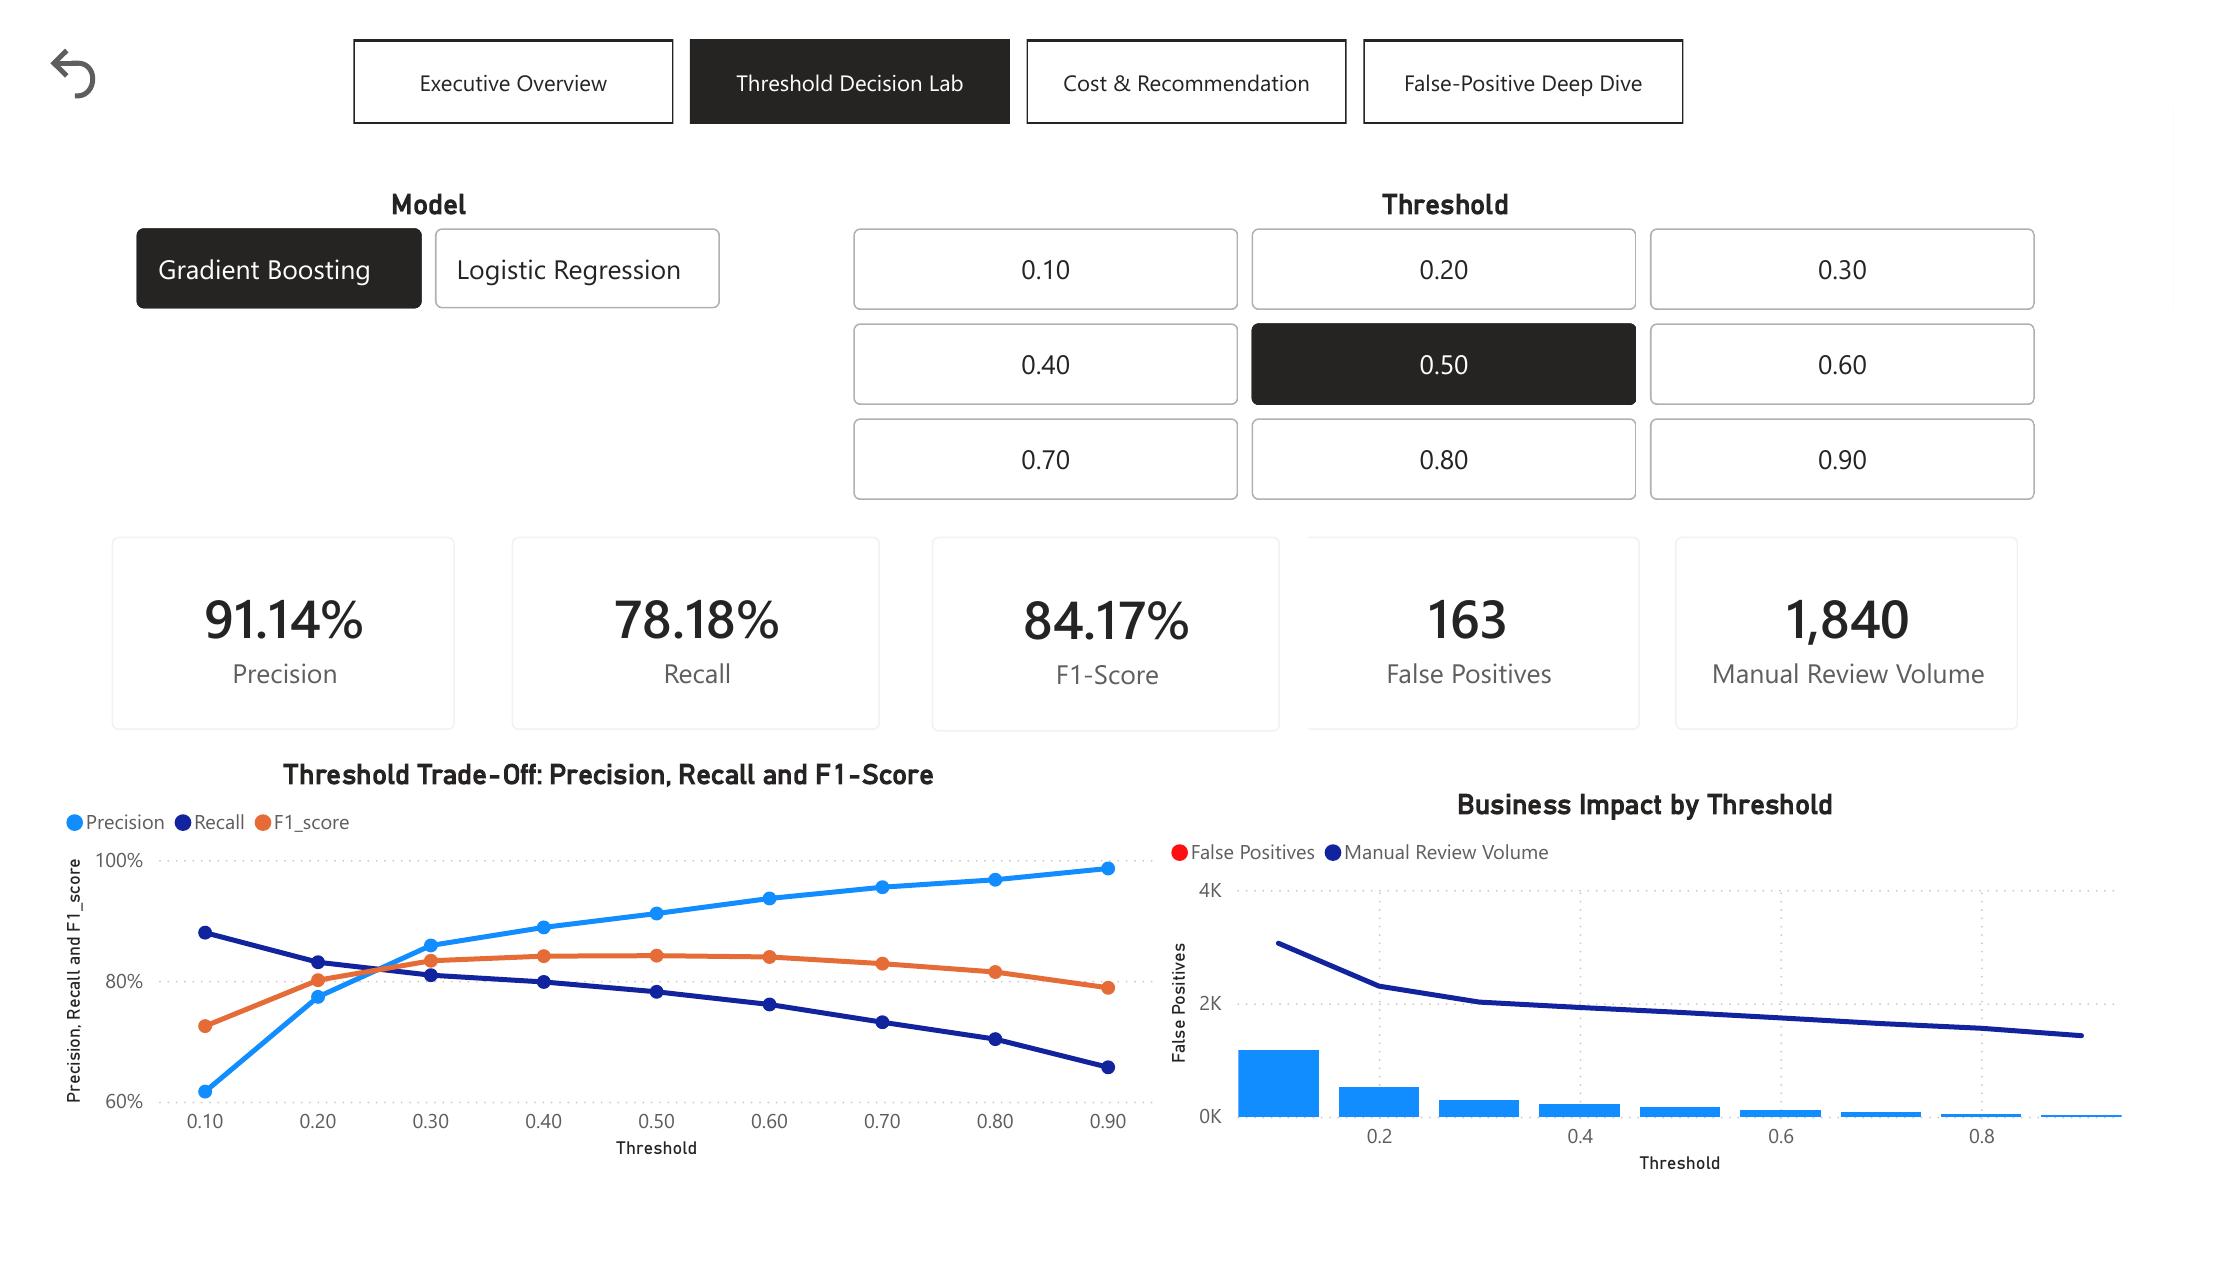

What the dashboard file says about the page in this screenshot:
{"tool":"powerbi","page":{"name":"Threshold Decision Lab","canvas":[1280,720],"ordinal":1},"visuals":[{"type":"advancedSlicerVisual","fields":{"Values":["Threshold Analysis.model"]},"box":[53.5,89.5,360.9,76.8],"z":0},{"type":"advancedSlicerVisual","fields":{"Values":["Threshold Analysis.threshold"]},"box":[483.4,89.5,720.7,191.6],"z":1000},{"type":"cardVisual","fields":{"Data":["Sum(Threshold Analysis.precision)"]},"box":[26.3,281.1,239.3,149.8],"z":2000},{"type":"cardVisual","fields":{"Data":["Sum(Threshold Analysis.false_positives)"]},"box":[736.3,281.1,240.2,149.8],"z":3000},{"type":"cardVisual","fields":{"Data":["Sum(Threshold Analysis.f1_score)"]},"box":[518.4,281.1,242.2,150.8],"z":4000},{"type":"cardVisual","fields":{"Data":["Sum(Threshold Analysis.recall)"]},"box":[265.5,281.1,255.8,149.8],"z":5000},{"type":"cardVisual","fields":{"Data":["Sum(Threshold Analysis.manual_review_volume)"]},"box":[963.9,281.1,240.2,149.8],"z":6000},{"type":"lineChart","title":"Threshold Trade-Off: Precision, Recall and F1-Score","fields":{"Category":["Threshold Analysis.threshold"],"Y":["Sum(Threshold Analysis.precision)","Sum(Threshold Analysis.recall)","Sum(Threshold Analysis.f1_score)"]},"box":[9.7,430.9,663.3,245.1],"z":7000},{"type":"lineClusteredColumnComboChart","title":"Business Impact by Threshold","fields":{"Category":["Threshold Analysis.threshold"],"Y":["Sum(Threshold Analysis.false_positives)"],"Y2":["Sum(Threshold Analysis.manual_review_volume)"]},"box":[673.1,449.4,580.7,235.4],"z":8000},{"type":"pageNavigator","box":[187.7,0,800.5,49.6],"z":8001},{"type":"actionButton","box":[0,0,100,40],"z":8002}]}

Visuals, with their boxes in screenshot pixels (x1, y1, x2, y2), scaled from the page's 1280x720 canvas onto the 2214x1280 screenshot:
advancedSlicerVisual - Threshold Analysis.model: [left=93, top=159, right=717, bottom=296]
advancedSlicerVisual - Threshold Analysis.threshold: [left=836, top=159, right=2083, bottom=500]
cardVisual - Sum(Threshold Analysis.precision): [left=45, top=500, right=459, bottom=766]
cardVisual - Sum(Threshold Analysis.false_positives): [left=1274, top=500, right=1689, bottom=766]
cardVisual - Sum(Threshold Analysis.f1_score): [left=897, top=500, right=1316, bottom=768]
cardVisual - Sum(Threshold Analysis.recall): [left=459, top=500, right=902, bottom=766]
cardVisual - Sum(Threshold Analysis.manual_review_volume): [left=1667, top=500, right=2083, bottom=766]
"Threshold Trade-Off: Precision, Recall and F1-Score" lineChart: [left=17, top=766, right=1164, bottom=1202]
"Business Impact by Threshold" lineClusteredColumnComboChart: [left=1164, top=799, right=2169, bottom=1217]
pageNavigator: [left=325, top=0, right=1709, bottom=88]
actionButton: [left=0, top=0, right=173, bottom=71]
